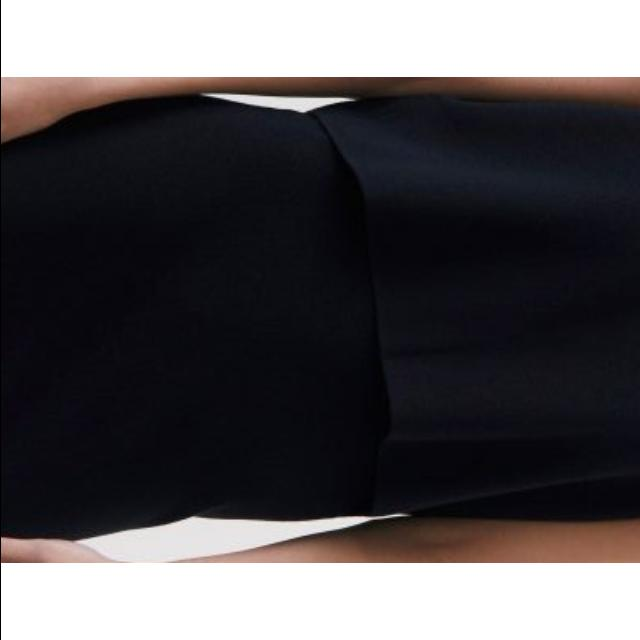polyester: (0, 77, 640, 563)
